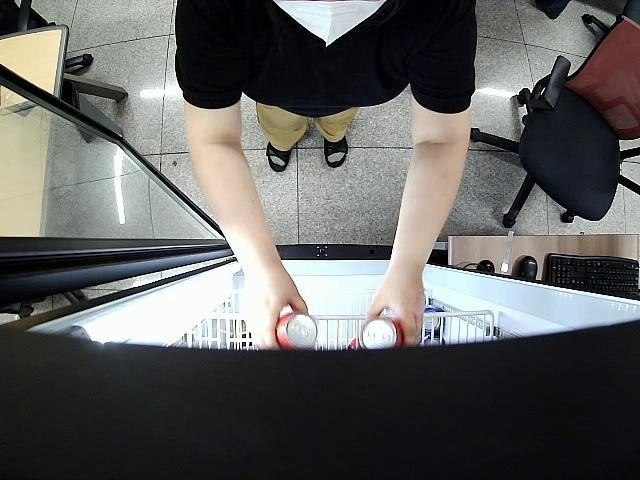11_cocaColaZero: (359, 318, 406, 350), (278, 312, 316, 348)
